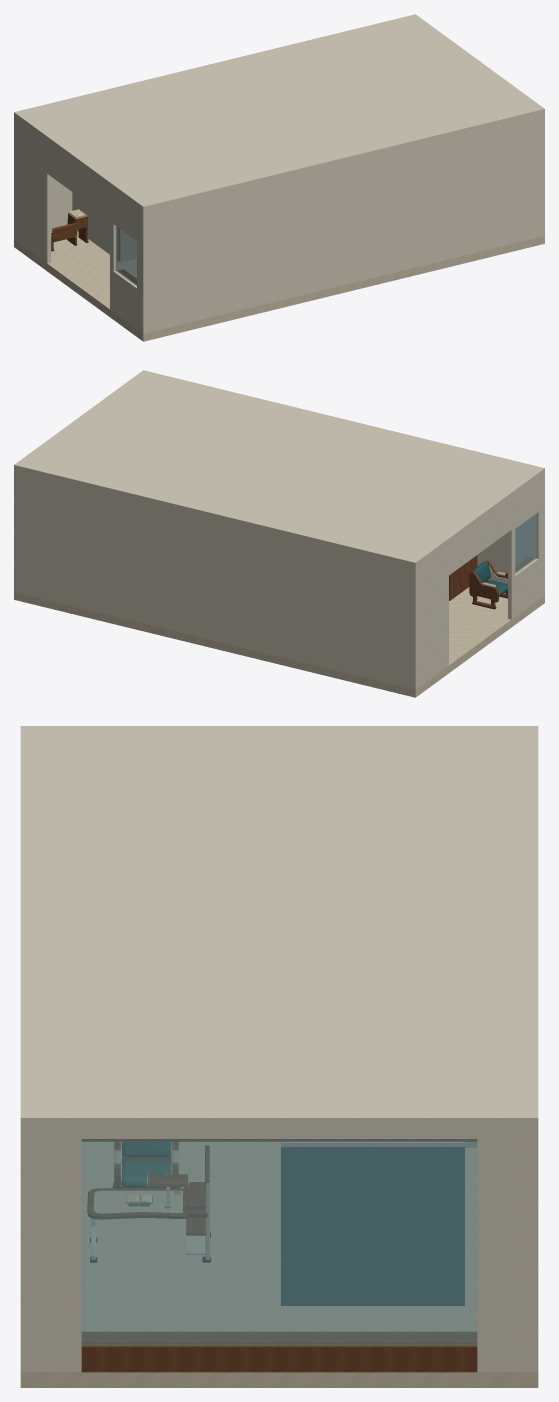
File: QuietGroveSpecialty_153_r002.glb
3 renders of one model, top to bottom at view 1: azimuth 30°, elevation 25°; view 2: azimuth 150°, elevation 25°; view 3: azimuth 270°, elevation 25°, orthographic. The views are drawn at different scales.
Visible parts, largest first — view 1: QG153_Ceiling, QG153_NorthSide, QG153_RoomFloor, QG153_EntryShoulderSouth, QG153_EntryHeader, QG153_StreetWindowLower, QG153_WashEntrySide, QG153_SouthSide, QG153_StreetWindowUpper, QG153_ScreenedStreetGlass; view 2: QG153_Ceiling, QG153_SouthSide, QG153_RoomFloor, QG153_EntryShoulderSouth, QG153_EntryHeader, QG153_NorthSide, QG153_StreetWindowLower, QG153_StreetWindowUpper, QG153_ScreenedStreetGlass, QG153_EntryPrivacyDogleg, QG153_QG153_StreetReadingChair__DAY_CHAIR_R_swept_walnut_che; view 3: QG153_Ceiling, QG153_CourtPanoramicGlass, QG153_RoomFloor, QG153_Cocoon01_RearLiner, QG153_CourtJambNorth, QG153_CourtJambSouth, QG153_CourtSill, QG153_CourtHeader, QG153_CourtRevealBottom, QG153_NorthSide, QG153_SouthSide, QG153_QG153_LibraryStudyEdge__SINGLE_inset_stone_writing_sur (+4 smaller).
Part boxes in pixels (left/top/right/bottom): QG153_Ceiling: left=14, top=14, right=544, bottom=211; QG153_NorthSide: left=141, top=114, right=544, bottom=333; QG153_RoomFloor: left=14, top=231, right=544, bottom=341; QG153_EntryShoulderSouth: left=16, top=119, right=51, bottom=263; QG153_EntryHeader: left=46, top=142, right=110, bottom=219; QG153_StreetWindowLower: left=110, top=269, right=141, bottom=331; QG153_WashEntrySide: left=72, top=192, right=123, bottom=261; QG153_SouthSide: left=14, top=117, right=72, bottom=240; QG153_StreetWindowUpper: left=110, top=188, right=141, bottom=243; QG153_ScreenedStreetGlass: left=115, top=226, right=136, bottom=285; QG153_Ceiling: left=14, top=370, right=544, bottom=567; QG153_SouthSide: left=14, top=470, right=417, bottom=689; QG153_RoomFloor: left=14, top=587, right=544, bottom=697; QG153_EntryShoulderSouth: left=417, top=544, right=448, bottom=687; QG153_EntryHeader: left=448, top=497, right=512, bottom=575; QG153_NorthSide: left=477, top=473, right=544, bottom=596; QG153_StreetWindowLower: left=508, top=556, right=542, bottom=619; QG153_StreetWindowUpper: left=510, top=475, right=542, bottom=531; QG153_ScreenedStreetGlass: left=515, top=514, right=536, bottom=573; QG153_EntryPrivacyDogleg: left=449, top=555, right=477, bottom=600; QG153_QG153_StreetReadingChair__DAY_CHAIR_R_swept_walnut_che: left=469, top=571, right=498, bottom=602; QG153_Ceiling: left=20, top=726, right=538, bottom=1128; QG153_CourtPanoramicGlass: left=81, top=1139, right=477, bottom=1345; QG153_RoomFloor: left=20, top=1142, right=538, bottom=1387; QG153_Cocoon01_RearLiner: left=285, top=1147, right=460, bottom=1305; QG153_CourtJambNorth: left=477, top=1124, right=538, bottom=1372; QG153_CourtJambSouth: left=20, top=1124, right=81, bottom=1372; QG153_CourtSill: left=81, top=1344, right=477, bottom=1372; QG153_CourtHeader: left=81, top=1124, right=477, bottom=1138; QG153_CourtRevealBottom: left=82, top=1332, right=476, bottom=1343; QG153_NorthSide: left=20, top=1128, right=29, bottom=1372; QG153_SouthSide: left=529, top=1128, right=538, bottom=1372; QG153_QG153_LibraryStudyEdge__SINGLE_inset_stone_writing_sur: left=94, top=1191, right=182, bottom=1213.
Size of the model in its own units: 12.9 by 4.14 by 7.2.
64 materials, 49 textured.
